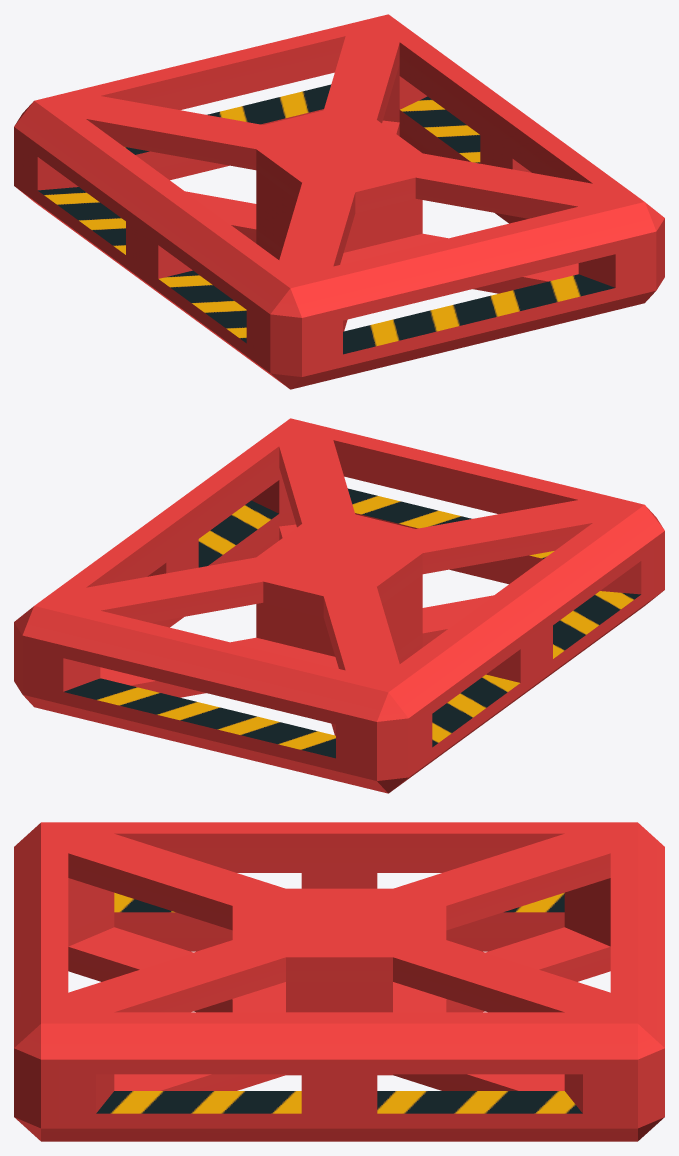
The model's file is Pallete_03.fbx.
3 views of the same model, one above another, from view 1: azimuth 30°, elevation 25°; view 2: azimuth 150°, elevation 25°; view 3: azimuth 270°, elevation 25° (orthographic). The views are drawn at different scales.
Parts seen in each view (by area): view 1: Pallete_03; view 2: Pallete_03; view 3: Pallete_03.
Part boxes in pixels (left/top/right/bottom): Pallete_03: left=14, top=14, right=664, bottom=389; Pallete_03: left=14, top=418, right=664, bottom=793; Pallete_03: left=14, top=822, right=664, bottom=1141.
Bounding box in the file's own units: 97.8 × 120 × 24.
